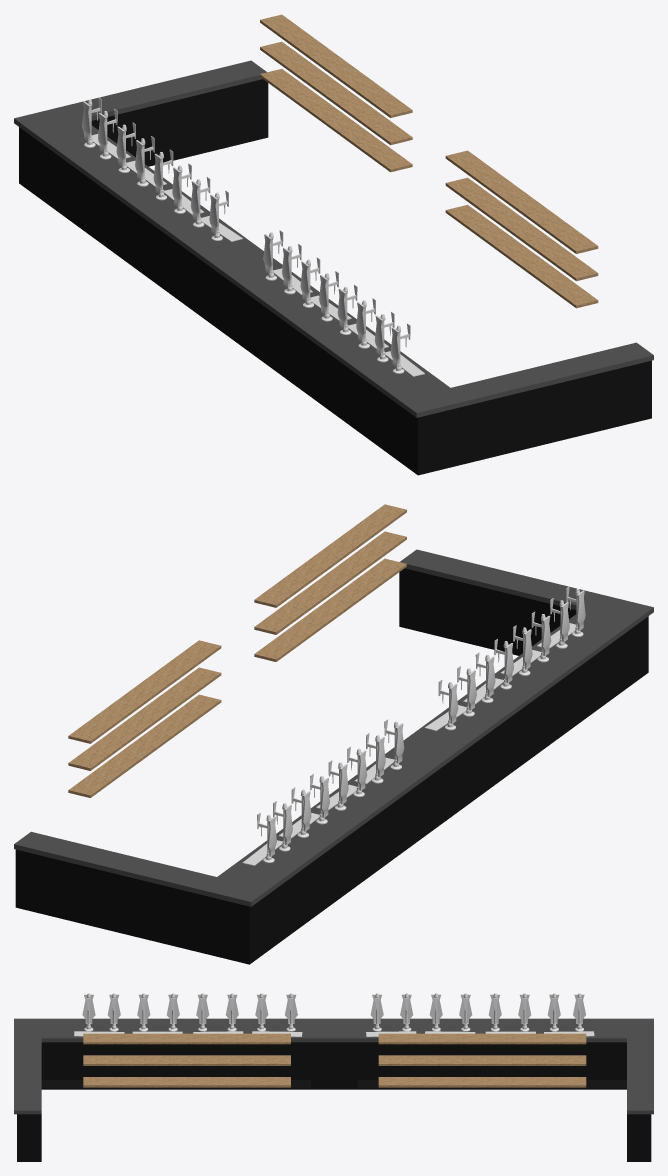
Rendered from bar.FBX.
3 renders of one model, top to bottom at view 1: azimuth 30°, elevation 25°; view 2: azimuth 150°, elevation 25°; view 3: azimuth 270°, elevation 25°, orthographic. The views are drawn at different scales.
Visible parts, largest first — view 1: Box116, Box139; view 2: Box116, Box139; view 3: Box116, Box139, Box129, Box121, Box123, Box117, Box125, Box127, Box119, Box134, Box131, Box136 (+2 smaller).
Part boxes in pixels (left/top/right/bottom): Box116: left=14, top=60, right=653, bottom=475; Box139: left=260, top=14, right=598, bottom=308; Box116: left=14, top=549, right=653, bottom=964; Box139: left=68, top=504, right=406, bottom=797; Box116: left=14, top=1018, right=653, bottom=1161; Box139: left=83, top=1033, right=586, bottom=1087; Box129: left=107, top=994, right=560, bottom=1023; Box121: left=225, top=994, right=442, bottom=1023; Box123: left=196, top=994, right=472, bottom=1023; Box117: left=285, top=994, right=383, bottom=1023; Box125: left=166, top=994, right=501, bottom=1023; Box127: left=137, top=994, right=531, bottom=1023; Box119: left=255, top=994, right=412, bottom=1023; Box134: left=82, top=994, right=585, bottom=1023; Box131: left=252, top=1031, right=416, bottom=1036; Box136: left=74, top=1031, right=594, bottom=1036.
Size of the model in its own units: 4.45 by 2.59 by 13.07.
Materials: 3 (1 with a texture image).
